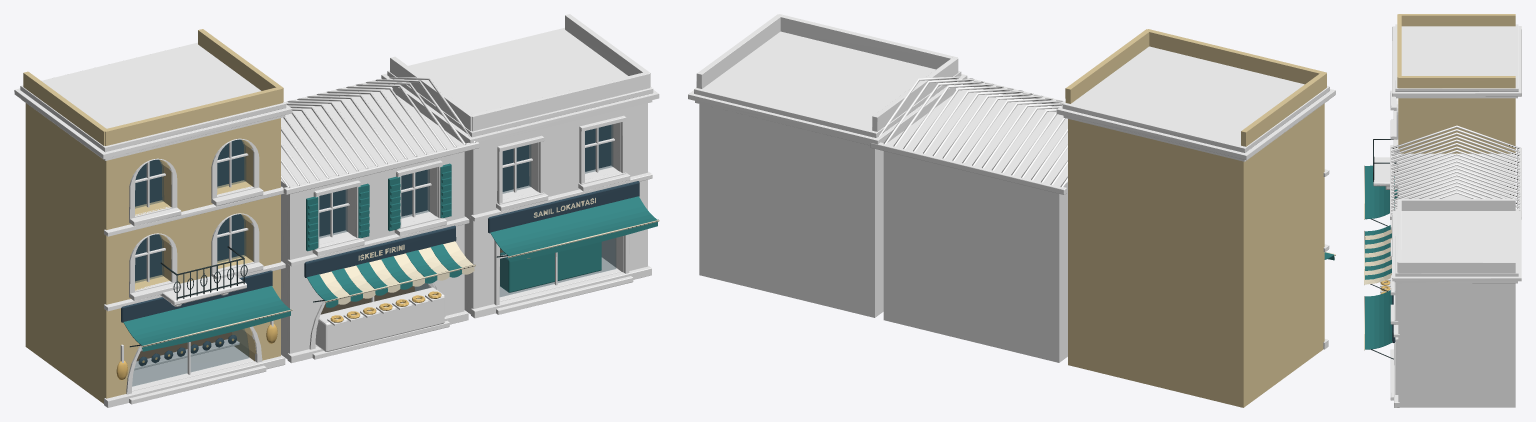
Rendered from DistrictBlock_2_2_LOD1.glb.
3 renders of one model, left to right at view 1: azimuth 30°, elevation 25°; view 2: azimuth 150°, elevation 25°; view 3: azimuth 270°, elevation 25°, orthographic. The views are drawn at different scales.
Parts seen in each view (by area): view 1: RK_DistrictBlock_2_2_LOD1_LC_Lime, RK_DistrictBlock_2_2_LOD1_LC_Ochre, RK_DistrictBlock_2_2_LOD1_LC_Teal, RK_DistrictBlock_2_2_LOD1_LC_Coral, RK_DistrictBlock_2_2_LOD1_LC_Cream, RK_DistrictBlock_2_2_LOD1_LC_Ink, RK_DistrictBlock_2_2_LOD1_LC_Glass, RK_DistrictBlock_2_2_LOD1_LC_Wood, RK_DistrictBlock_2_2_LOD1_LC_Tile, RK_DistrictBlock_2_2_LOD1_LC_Canvas, RK_DistrictBlock_2_2_LOD1_LC_Iron, RK_DistrictBlock_2_2_LOD1_LC_Gold (+1 smaller); view 2: RK_DistrictBlock_2_2_LOD1_LC_Ochre, RK_DistrictBlock_2_2_LOD1_LC_Cream, RK_DistrictBlock_2_2_LOD1_LC_Coral, RK_DistrictBlock_2_2_LOD1_LC_Lime, RK_DistrictBlock_2_2_LOD1_LC_Tile, RK_DistrictBlock_2_2_LOD1_LC_Wood; view 3: RK_DistrictBlock_2_2_LOD1_LC_Lime, RK_DistrictBlock_2_2_LOD1_LC_Coral, RK_DistrictBlock_2_2_LOD1_LC_Ochre, RK_DistrictBlock_2_2_LOD1_LC_Tile, RK_DistrictBlock_2_2_LOD1_LC_Cream, RK_DistrictBlock_2_2_LOD1_LC_Teal, RK_DistrictBlock_2_2_LOD1_LC_Canvas, RK_DistrictBlock_2_2_LOD1_LC_Wood, RK_DistrictBlock_2_2_LOD1_LC_Iron.
Boxes of the visible parts, x1,y1,x2,y2 form: RK_DistrictBlock_2_2_LOD1_LC_Lime: (14, 27, 659, 407); RK_DistrictBlock_2_2_LOD1_LC_Ochre: (23, 29, 283, 403); RK_DistrictBlock_2_2_LOD1_LC_Teal: (123, 163, 657, 351); RK_DistrictBlock_2_2_LOD1_LC_Coral: (390, 14, 650, 314); RK_DistrictBlock_2_2_LOD1_LC_Cream: (281, 87, 464, 359); RK_DistrictBlock_2_2_LOD1_LC_Ink: (121, 125, 639, 365); RK_DistrictBlock_2_2_LOD1_LC_Glass: (132, 124, 615, 386); RK_DistrictBlock_2_2_LOD1_LC_Wood: (120, 78, 621, 391); RK_DistrictBlock_2_2_LOD1_LC_Tile: (281, 77, 475, 187); RK_DistrictBlock_2_2_LOD1_LC_Canvas: (141, 198, 659, 347); RK_DistrictBlock_2_2_LOD1_LC_Iron: (129, 246, 507, 347); RK_DistrictBlock_2_2_LOD1_LC_Gold: (116, 291, 441, 380); RK_DistrictBlock_2_2_LOD1_LC_Ochre: (1065, 29, 1326, 407); RK_DistrictBlock_2_2_LOD1_LC_Cream: (883, 87, 1067, 362); RK_DistrictBlock_2_2_LOD1_LC_Coral: (696, 14, 958, 317); RK_DistrictBlock_2_2_LOD1_LC_Lime: (688, 31, 1335, 349); RK_DistrictBlock_2_2_LOD1_LC_Tile: (879, 76, 1067, 187); RK_DistrictBlock_2_2_LOD1_LC_Wood: (870, 77, 1066, 194); RK_DistrictBlock_2_2_LOD1_LC_Lime: (1373, 24, 1521, 407); RK_DistrictBlock_2_2_LOD1_LC_Coral: (1397, 198, 1515, 407); RK_DistrictBlock_2_2_LOD1_LC_Ochre: (1397, 14, 1515, 153); RK_DistrictBlock_2_2_LOD1_LC_Tile: (1391, 125, 1520, 214); RK_DistrictBlock_2_2_LOD1_LC_Cream: (1398, 153, 1515, 198); RK_DistrictBlock_2_2_LOD1_LC_Teal: (1365, 165, 1397, 349); RK_DistrictBlock_2_2_LOD1_LC_Canvas: (1364, 165, 1391, 350); RK_DistrictBlock_2_2_LOD1_LC_Wood: (1390, 147, 1521, 287); RK_DistrictBlock_2_2_LOD1_LC_Iron: (1370, 139, 1396, 359).
Size of the model in its own units: 19.09 by 9.02 by 6.44.
